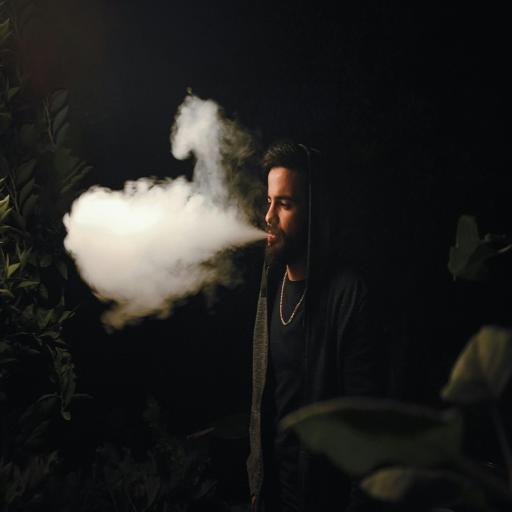smoke: (56, 136, 261, 315)
